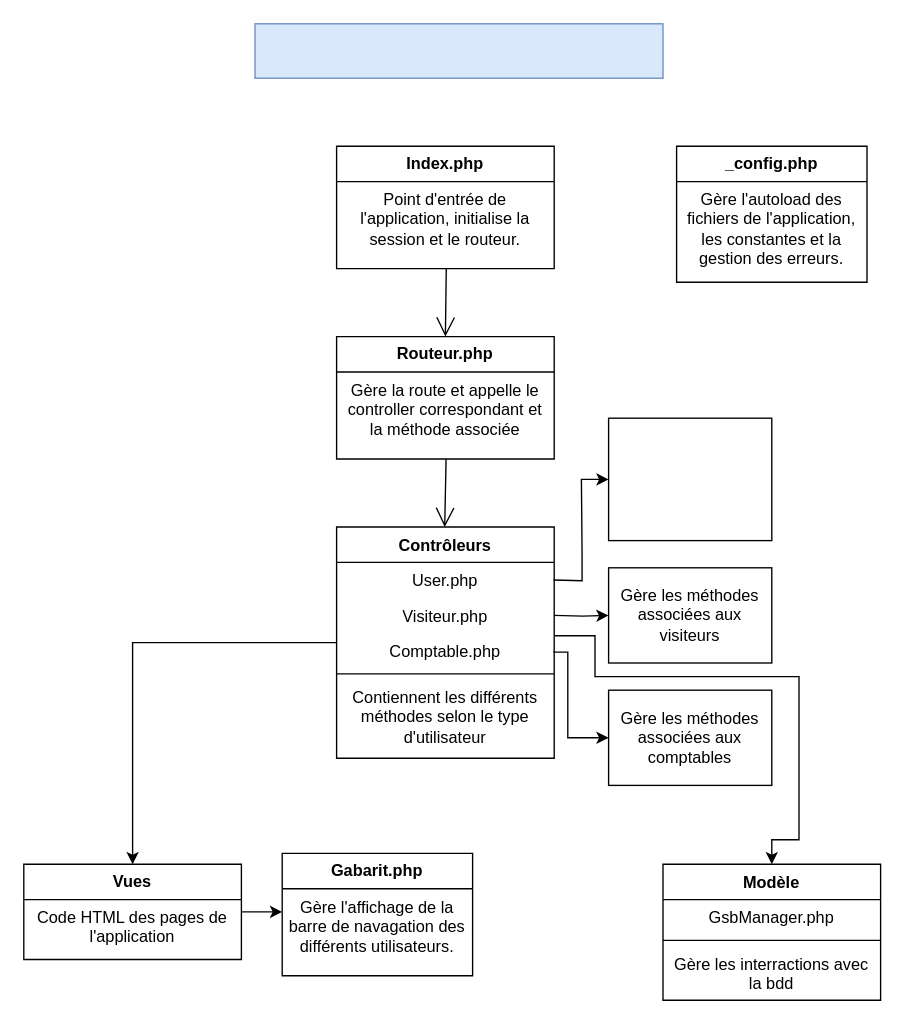
The diagram is 904 pixels wide and 1028 high, and some of its shapes have lost their labels. The centre of each missing label's shape, as x and y in pixels:
"GSB_AppliMVCPOO_VFinale" goes at point (458, 50).
"Gère la connexion de l'utilisateur (comptable ou visiteur) et la déconnexion" goes at point (689, 479).
